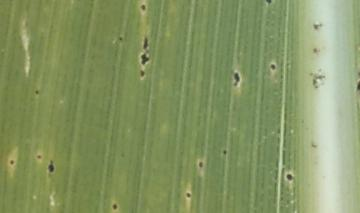tarspot: (307, 71, 326, 90), (139, 52, 150, 67), (231, 71, 241, 87), (47, 158, 56, 174), (142, 35, 149, 52), (138, 68, 147, 80), (110, 202, 120, 212), (311, 46, 321, 56), (285, 172, 294, 182), (311, 22, 322, 30), (183, 190, 192, 199), (139, 3, 147, 13), (309, 142, 319, 150), (197, 159, 204, 169), (35, 153, 43, 161), (269, 62, 276, 71), (263, 1, 275, 6), (221, 148, 228, 156), (355, 80, 360, 91), (33, 88, 40, 95), (8, 158, 14, 166), (118, 35, 123, 42)
